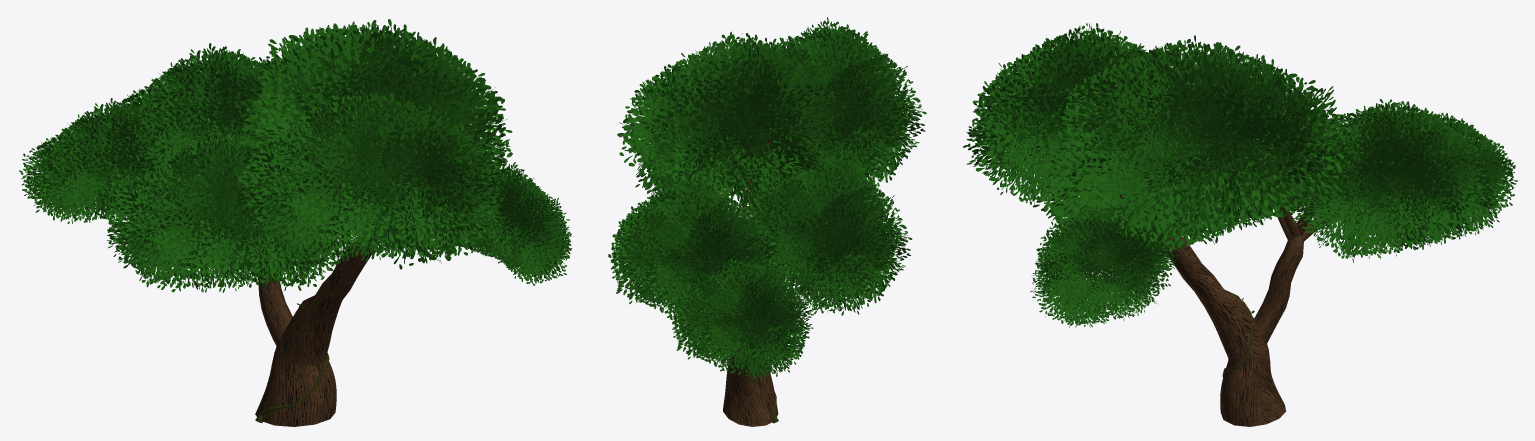
Rendered from Cay 3-LOD 0.fbx.
3 views of the same model, side by side, from view 1: azimuth 30°, elevation 25°; view 2: azimuth 150°, elevation 25°; view 3: azimuth 270°, elevation 25° (orthographic). The views are drawn at different scales.
Parts seen in each view (by area): view 1: LOD 0.001; view 2: LOD 0.001; view 3: LOD 0.001.
Part boxes in pixels (x1,y1,x2,y2): LOD 0.001: [19, 19, 571, 426]; LOD 0.001: [608, 17, 926, 426]; LOD 0.001: [963, 23, 1517, 426].
Bounding box in the file's own units: 967 × 1054 × 1328.
